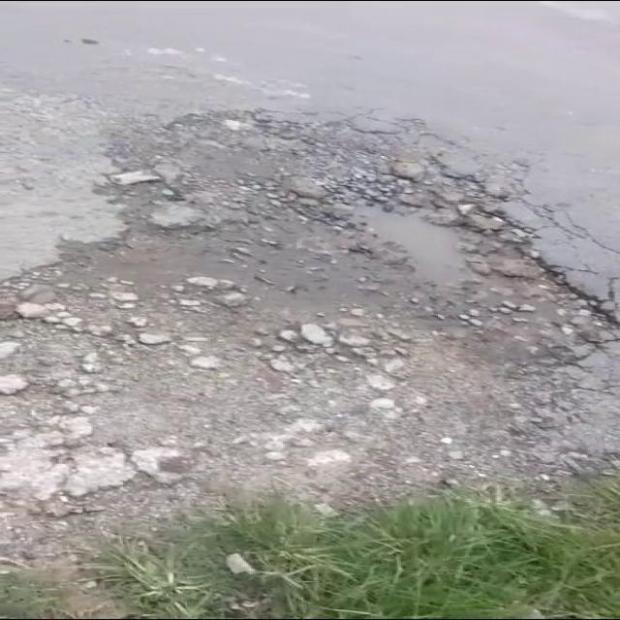lubang: (0, 114, 589, 491)
